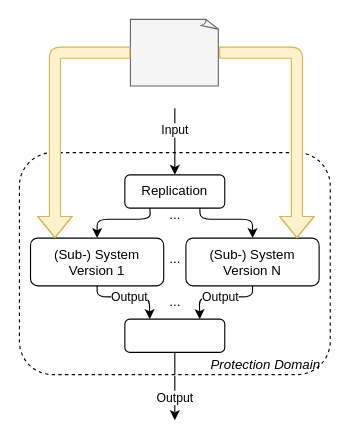
The diagram is 350 pixels wide and 448 high, and some of its shapes have lost their labels. The shapes that lost their labels are listed below. From the top down, each one's centre as x and y in pixels, then its label:
the point at 174,52: Specification
the point at 174,335: Validation
